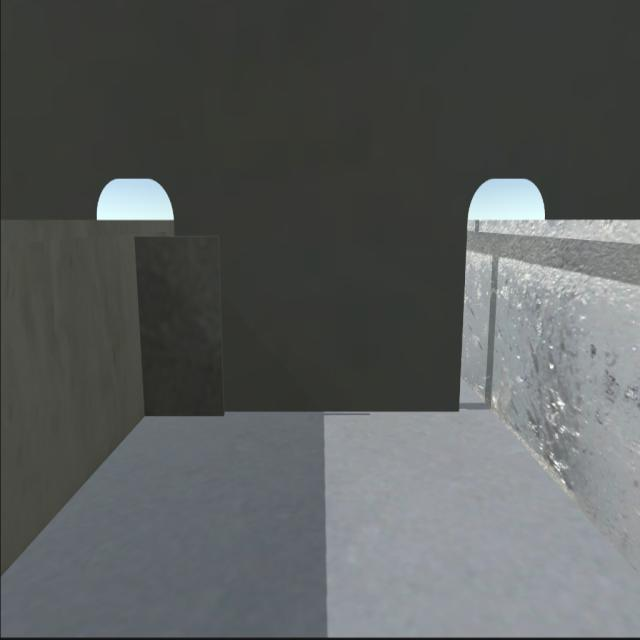fillet_yong_jeop_jang: (140, 402, 460, 422)
longi_yong_jeop_jang: (130, 234, 154, 423)
plate_CP01: (131, 232, 225, 422)
